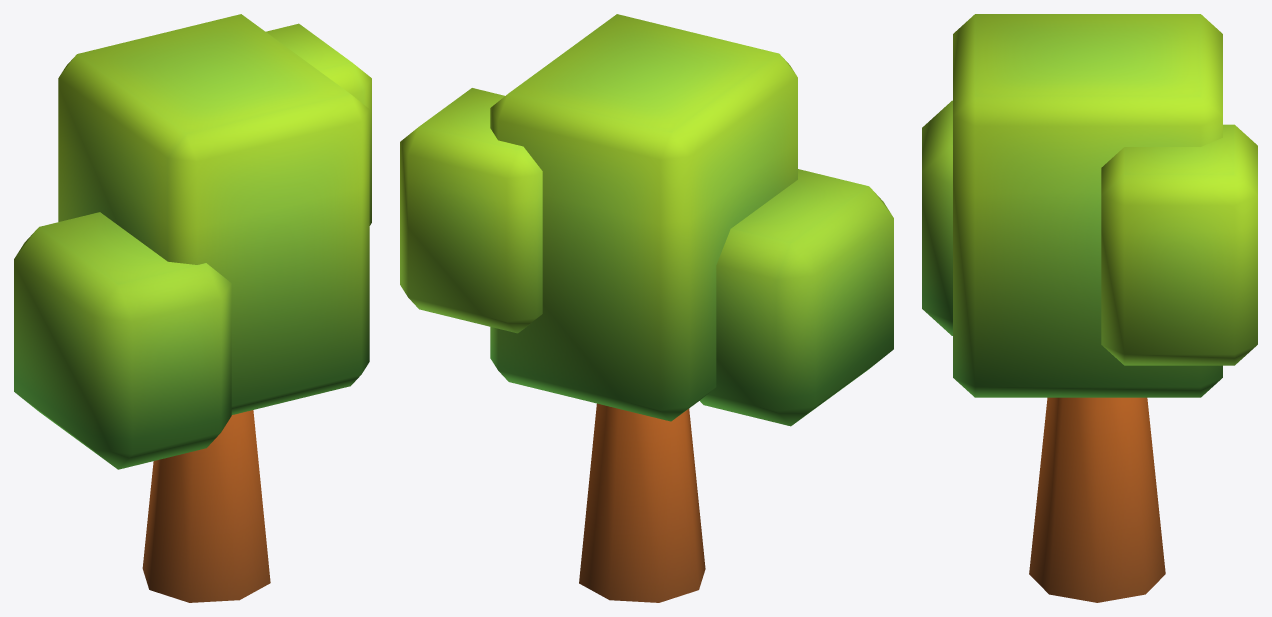
File: Pohon 1.fbx
3 views of the same model, side by side, from view 1: azimuth 30°, elevation 25°; view 2: azimuth 150°, elevation 25°; view 3: azimuth 270°, elevation 25° (orthographic). The views are drawn at different scales.
Visible parts, largest first — view 1: Cylinder.012, Cylinder.005; view 2: Cylinder.012, Cylinder.005; view 3: Cylinder.012, Cylinder.005.
Boxes of the visible parts, x1,y1,x2,y2 form: Cylinder.012: [14, 14, 371, 469]; Cylinder.005: [142, 410, 270, 602]; Cylinder.012: [400, 14, 893, 426]; Cylinder.005: [579, 403, 705, 602]; Cylinder.012: [922, 14, 1257, 397]; Cylinder.005: [1029, 397, 1165, 602].
Bounding box in the file's own units: 2.19 × 2.91 × 1.7.
